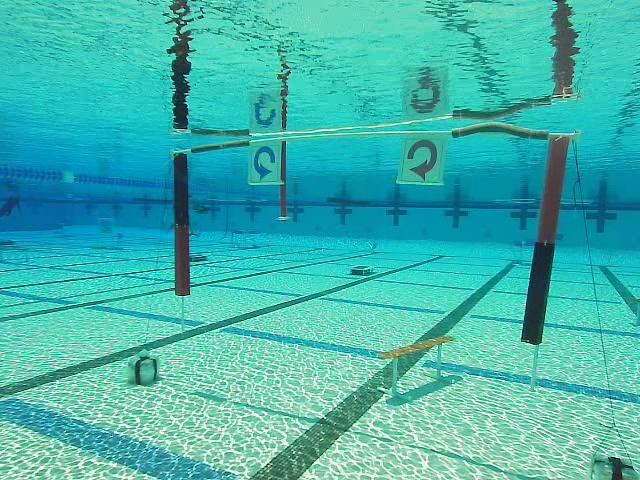dropper: (346, 261, 373, 280)
gate: (169, 125, 576, 344)
gate_blue: (249, 140, 284, 184)
gate_leg_l: (171, 148, 193, 296)
gate_leg_r: (522, 133, 577, 345)
gate_red: (398, 134, 448, 186)
torpedo: (96, 215, 113, 234)
